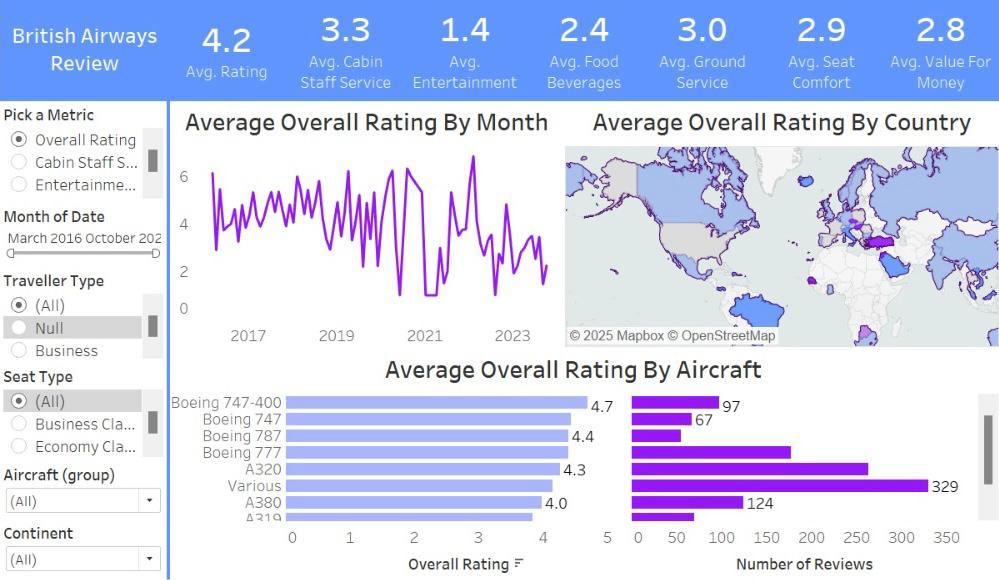

The page's visual inventory and layout, read from the dashboard file:
{"tool":"tableau","page":{"name":"Dashboard 1","canvas":[1200,700],"ordinal":0},"visuals":[{"type":"text","box":[0,0,203,126]},{"type":"blank","box":[200,123,4,577]},{"type":"parameter","param":"[Parameters].[Parameter 1]","box":[0,125,200,122]},{"type":"worksheet","title":"Sheet 4","mark":"Automatic","rows":["Calculation_2937754344319143936"],"cols":["date"],"box":[203,126,474,293]},{"type":"worksheet","title":"Map","mark":"Automatic","box":[678,126,521,295]},{"type":"filter","title":"Map","param":"[federated.0zwh4fj0v5k1sz1gtndmf12vfnqk].[tmn:date:qk]","box":[0,247,200,77]},{"type":"filter","title":"Map","param":"[federated.0zwh4fj0v5k1sz1gtndmf12vfnqk].[none:traveller_type:nk]","box":[0,324,200,115]},{"type":"worksheet","title":"Sheet 5","mark":"Automatic","cols":["Calculation_2937754344319143936","ba_reviews.csv_E01B334C153048A99CF3A278CB7FC905"],"box":[203,423,995,277]},{"type":"filter","title":"Map","param":"[federated.0zwh4fj0v5k1sz1gtndmf12vfnqk].[none:seat_type:nk]","box":[0,439,200,118]},{"type":"filter","title":"Map","param":"[federated.0zwh4fj0v5k1sz1gtndmf12vfnqk].[Aircraft (group)]","box":[0,557,200,70]},{"type":"filter","title":"Map","param":"[federated.0zwh4fj0v5k1sz1gtndmf12vfnqk].[none:Continent:nk]","box":[0,627,200,70]}]}

Visuals, with their boxes in screenshot pixels (x1, y1, x2, y2), scaled from the page's 1200x700 canvas onto the 999x580 screenshot:
text: (x1=0, y1=0, x2=169, y2=104)
blank: (x1=166, y1=102, x2=170, y2=579)
parameter: (x1=0, y1=104, x2=166, y2=205)
"Sheet 4" worksheet: (x1=169, y1=104, x2=564, y2=347)
"Map" worksheet: (x1=564, y1=104, x2=998, y2=349)
"Map" filter: (x1=0, y1=205, x2=166, y2=268)
"Map" filter: (x1=0, y1=268, x2=166, y2=364)
"Sheet 5" worksheet: (x1=169, y1=350, x2=997, y2=579)
"Map" filter: (x1=0, y1=364, x2=166, y2=462)
"Map" filter: (x1=0, y1=462, x2=166, y2=520)
"Map" filter: (x1=0, y1=520, x2=166, y2=578)
